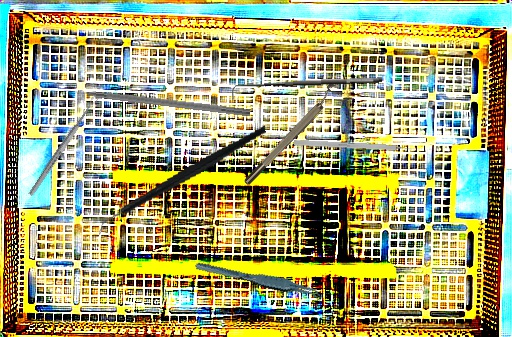Chopper: (85, 124, 279, 239)
Fixation Ring: (238, 80, 345, 188)
Hook Surgical: (63, 84, 251, 117), (231, 75, 383, 100), (293, 139, 421, 153)
Surgical Spoon: (27, 95, 100, 197)
Tissue Forceps: (194, 247, 326, 314)
